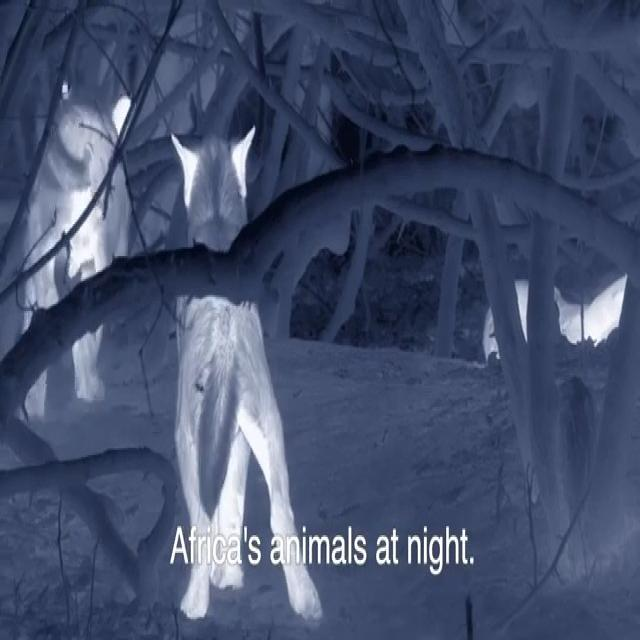animal: (158, 105, 333, 640), (25, 55, 139, 468)
